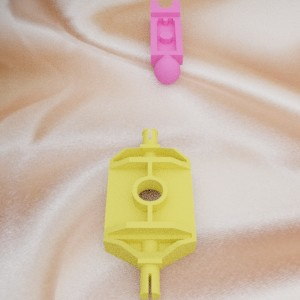lego: (103, 127, 196, 299), (150, 0, 183, 84)
